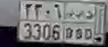0: (43, 7, 51, 41)
3: (32, 3, 42, 41), (24, 3, 32, 40)
6: (52, 2, 61, 42)
D: (85, 9, 93, 41)
